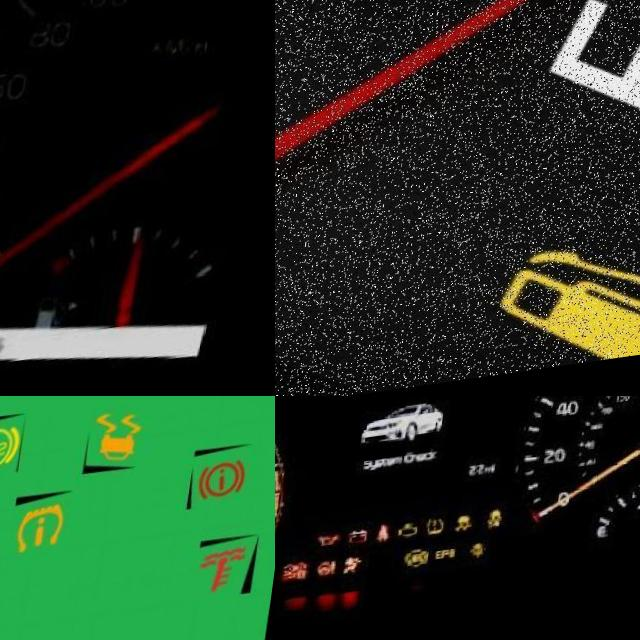Seat Belt: (379, 531, 396, 549)
